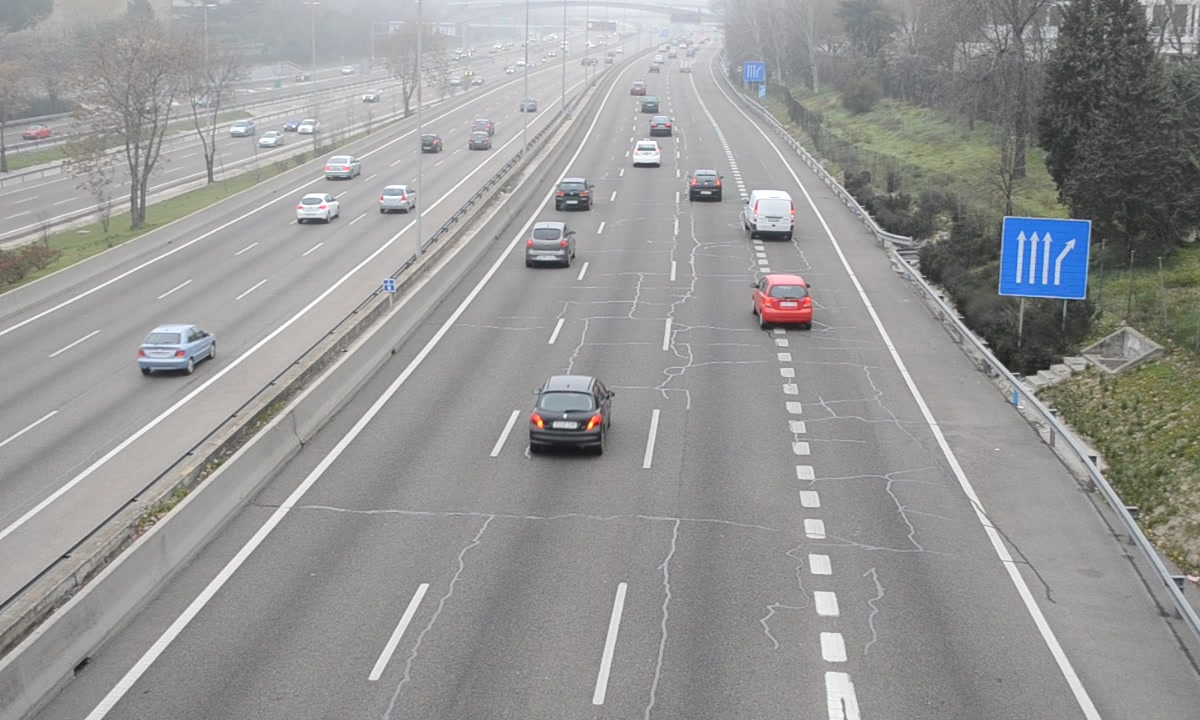car: (531, 377, 608, 452), (756, 272, 813, 329), (525, 221, 575, 270), (554, 178, 590, 212), (690, 169, 724, 202), (630, 137, 663, 168)
van: (744, 188, 796, 236)
